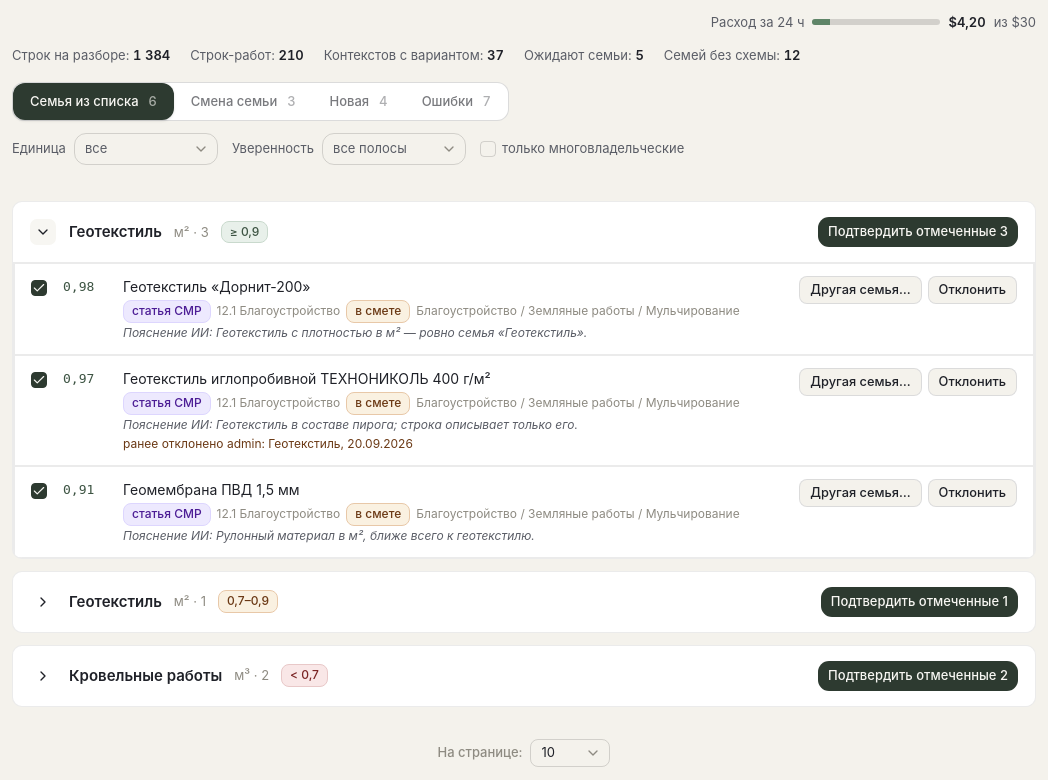
SuggestionsTab — переключатель очередей › «Новая»: единица фильтрует эту очередь, запрос идёт с queue=new и unit
Click the tab "Новая 4". click: (359, 101)
box: [312,83,405,120]
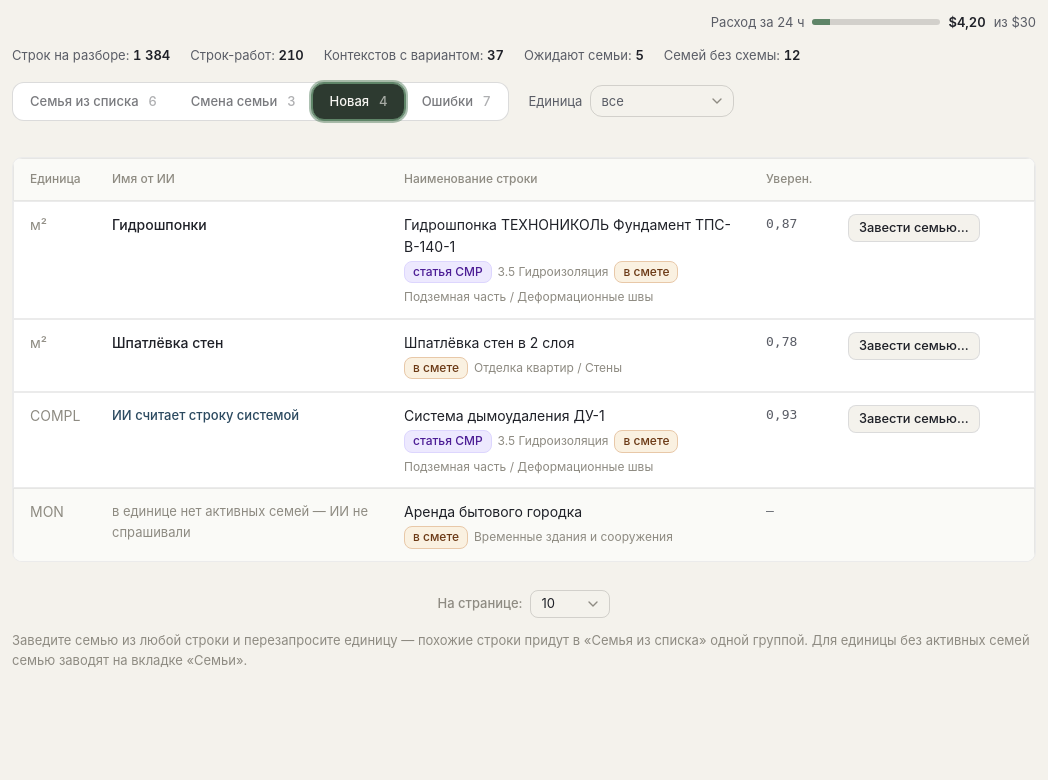
Expected: the element with test id "new-queue" is shown, [12,157,1036,562]
Click the dropdown named "Единица". click: (662, 101)
box: [590,85,734,117]
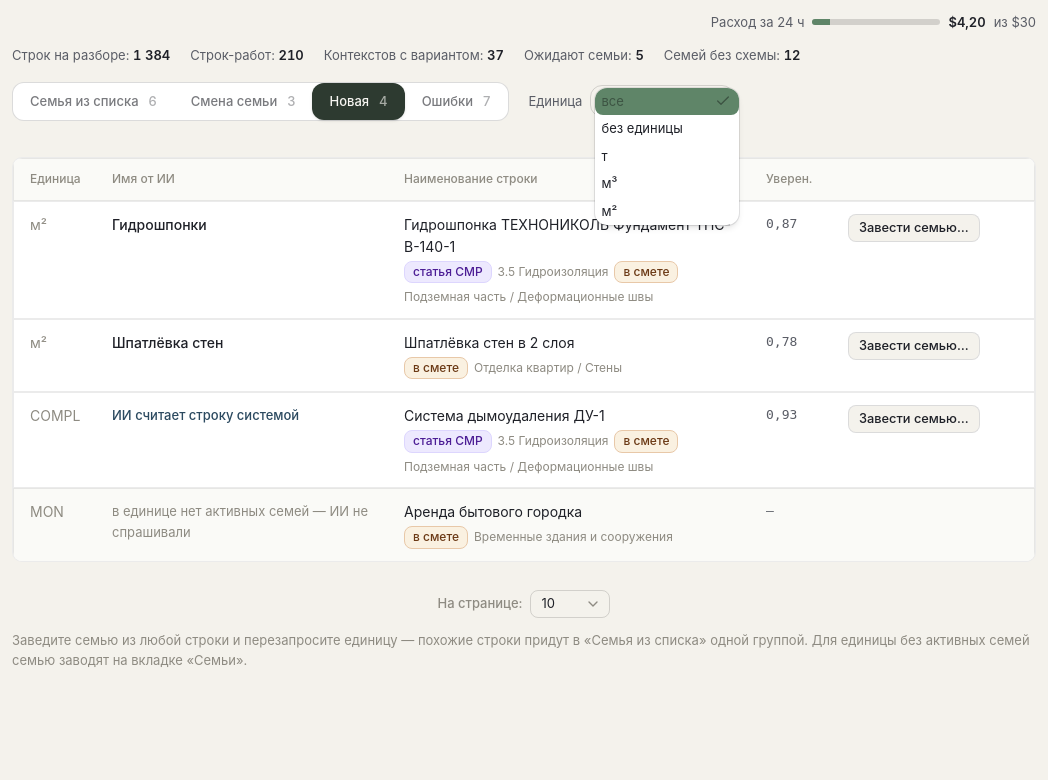
Click the option "м²". click: (609, 211)
box: [601,203,617,219]
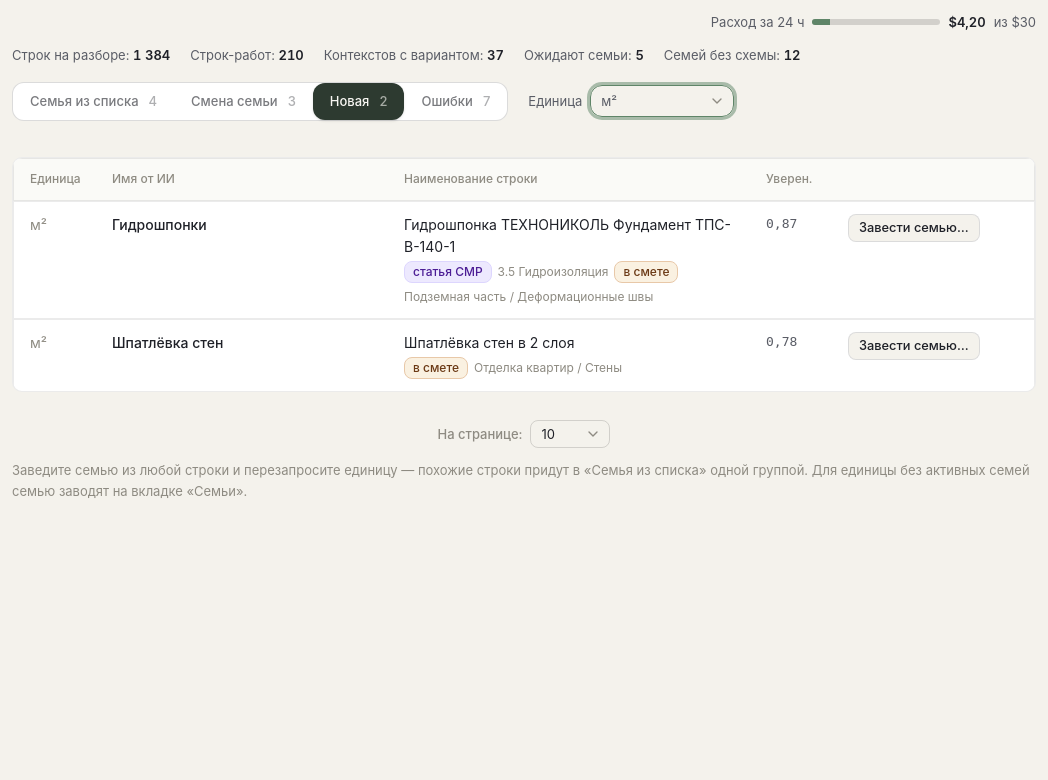
Expected: the number of elements with test id "new-row" is 2, [13,201,1035,319]; [13,319,1035,392]
